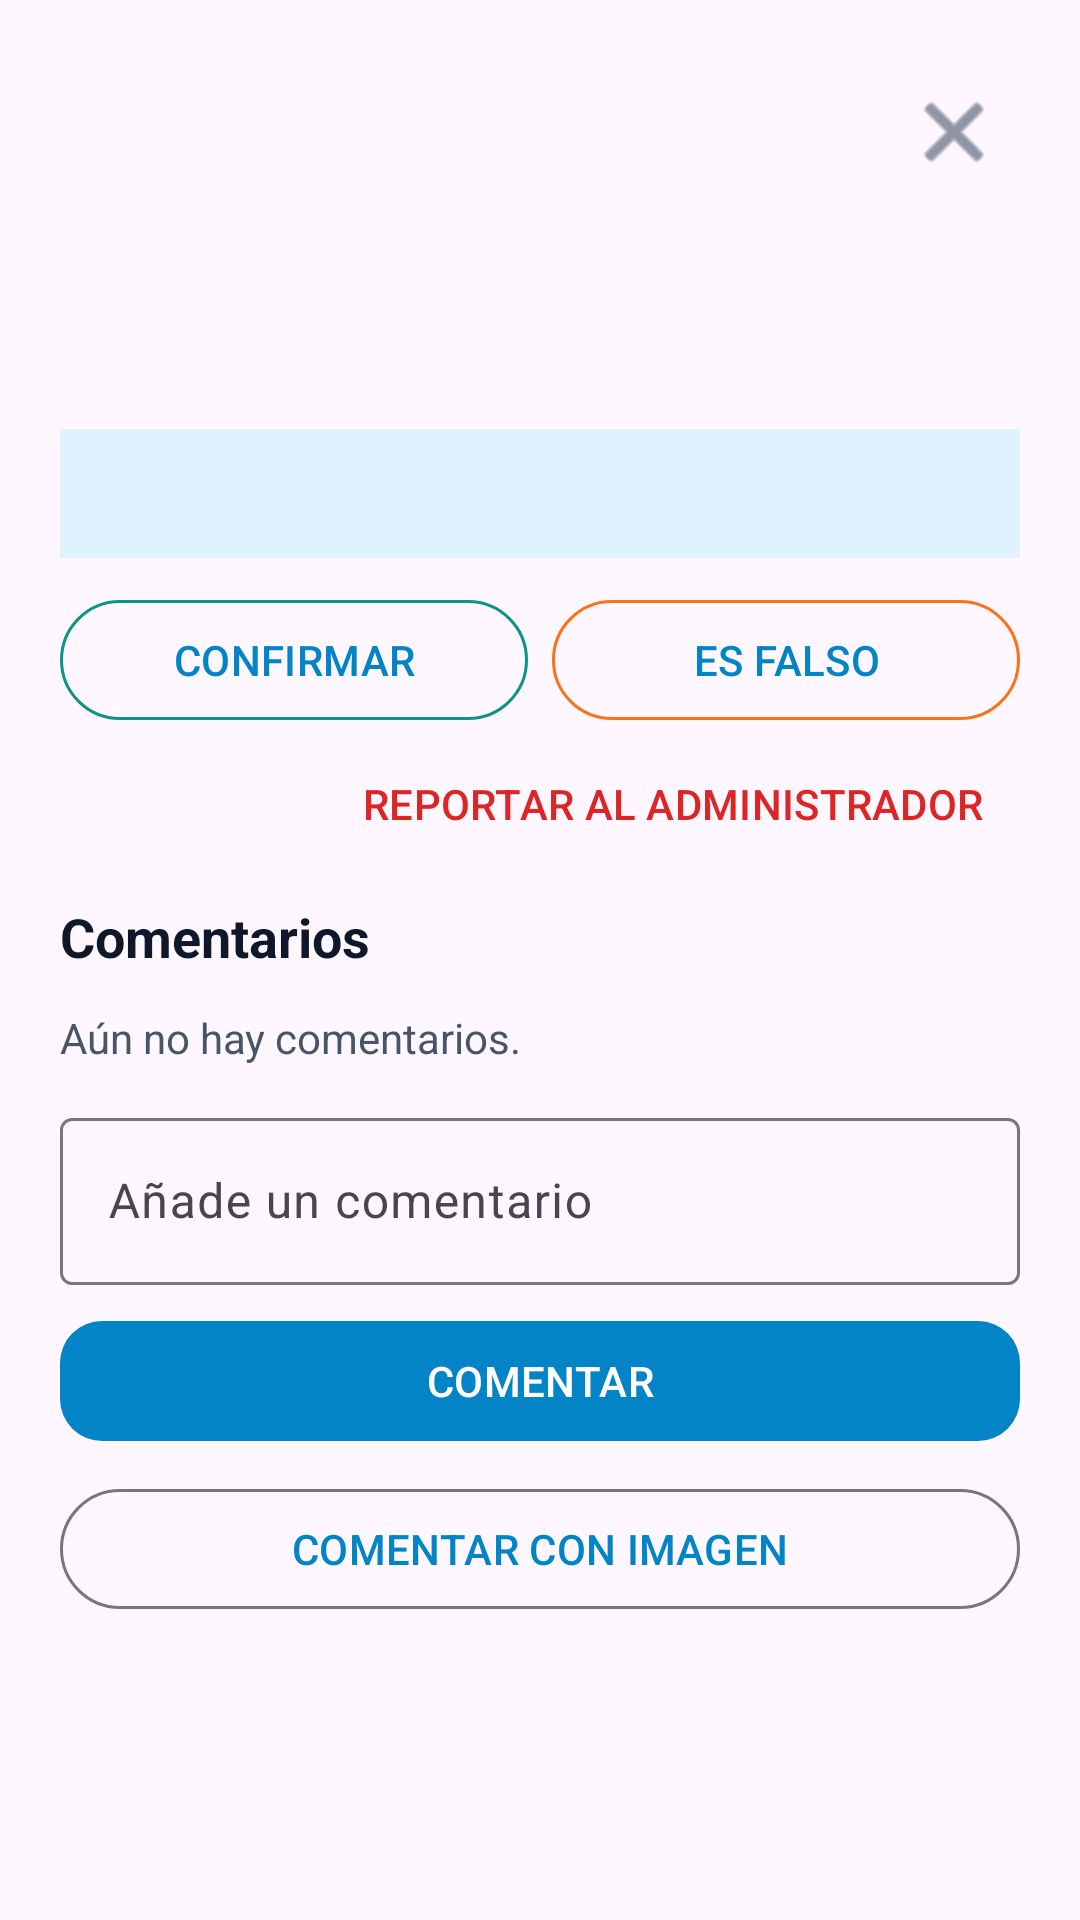

Where icons sit on this 1080 × 1920 app screen, as (x1, y1, x2, y2):
Cerrar: (924, 102, 984, 162)
